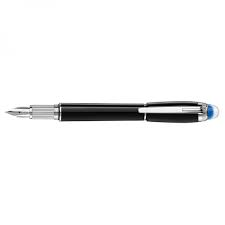qillqana: (3, 96, 221, 126)
